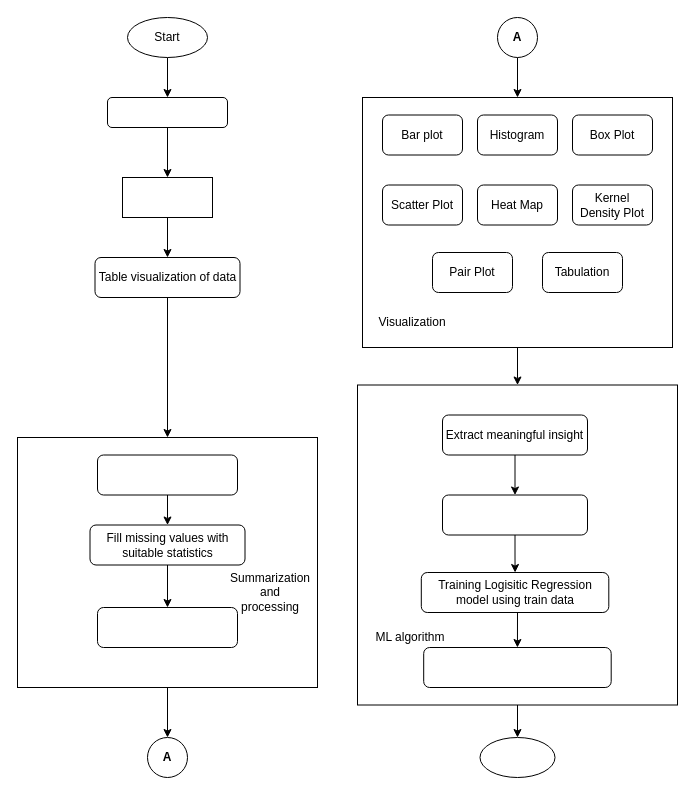
The diagram is 695 pixels wide and 795 high, and some of its shapes have lost their labels. Each missing label, with the box of its shape:
Create Spark Session: (106, 96, 228, 128)
Cross tabulation and correlation calculation: (96, 606, 238, 648)
end: (479, 736, 555, 778)
Evaluating model accuracy using test data: (423, 646, 611, 688)
Info and description of data: (96, 454, 238, 495)
Load data: (122, 176, 212, 218)
Splitting data into train and test part: (442, 494, 588, 535)
